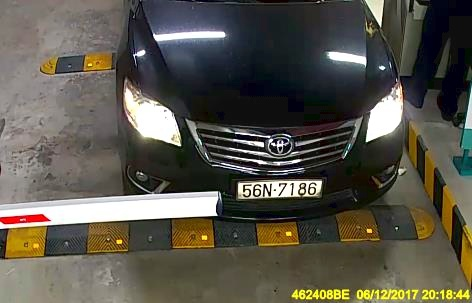plate: (235, 177, 326, 204)
